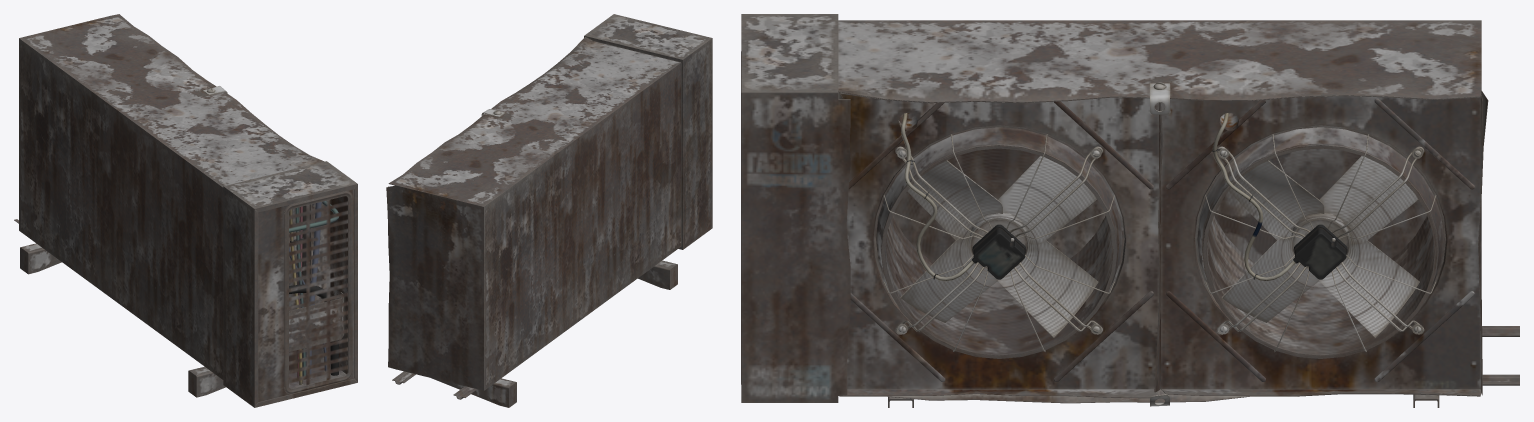
File: outdoor_air_conditioner.glb
3 views of the same model, side by side, from view 1: azimuth 30°, elevation 25°; view 2: azimuth 150°, elevation 25°; view 3: azimuth 270°, elevation 25° (orthographic). The views are drawn at different scales.
Visible parts, largest first — view 1: Box_lp; view 2: Box_lp; view 3: Box_lp, VentRight_lp, VentLeft_lp.
Part boxes in pixels (bbox=[...]): Box_lp: bbox=[14, 14, 357, 407]; Box_lp: bbox=[386, 14, 712, 407]; Box_lp: bbox=[741, 14, 1519, 407]; VentRight_lp: bbox=[1221, 156, 1419, 337]; VentLeft_lp: bbox=[900, 156, 1098, 337].
Bounding box in the file's own units: 0.3005 × 0.5007 × 1.03.
2 materials, 2 textured.
